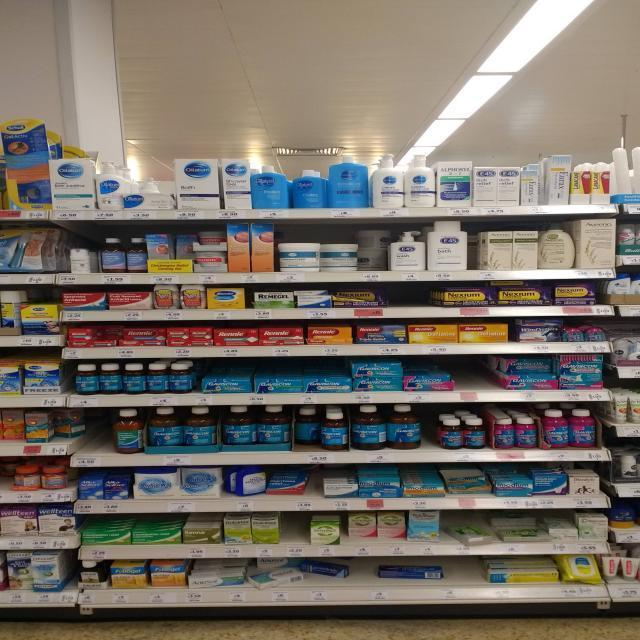empty: (444, 556, 478, 600), (350, 560, 377, 602), (456, 358, 480, 403), (89, 421, 111, 466), (287, 513, 309, 557), (422, 404, 437, 462), (391, 283, 416, 317)
